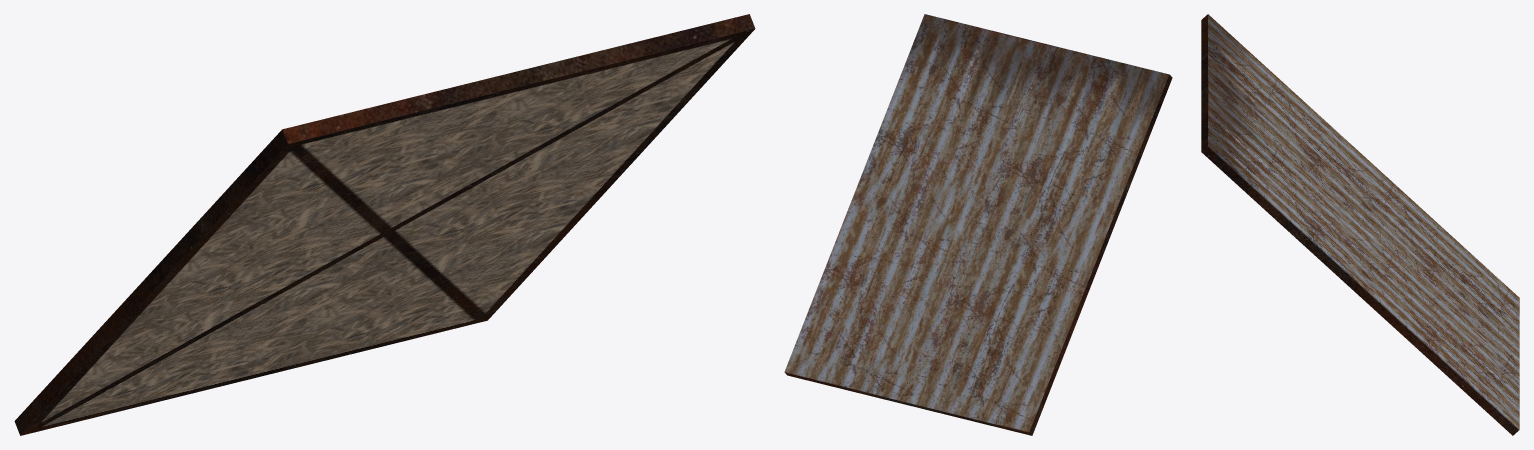
Rendered from metal_roof_square_textured.glb.
3 renders of one model, left to right at view 1: azimuth 30°, elevation 25°; view 2: azimuth 150°, elevation 25°; view 3: azimuth 270°, elevation 25°, orthographic. The views are drawn at different scales.
Visible parts, largest first — view 1: Plane; view 2: Plane; view 3: Plane.
Part boxes in pixels (bbox=[...]): Plane: bbox=[14, 14, 755, 435]; Plane: bbox=[784, 14, 1172, 435]; Plane: bbox=[1201, 14, 1519, 435].
Size of the model in its own units: 2.23 by 2.28 by 2.26.
1 material, 1 textured.
